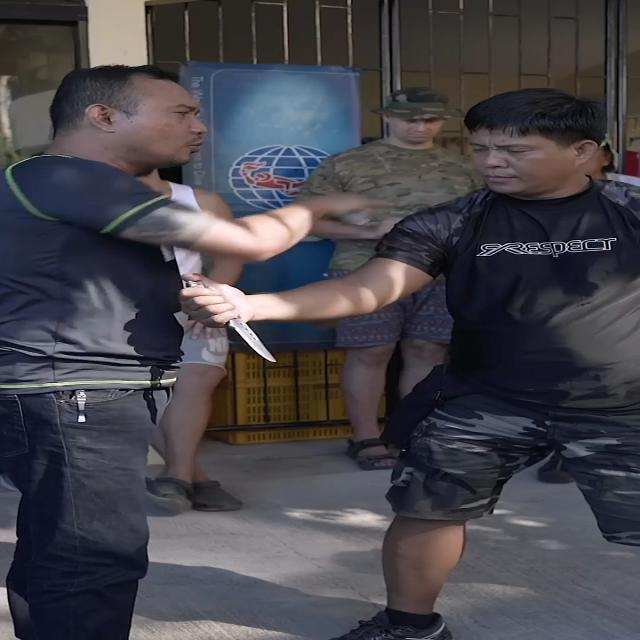Knife: (182, 284, 294, 368)
